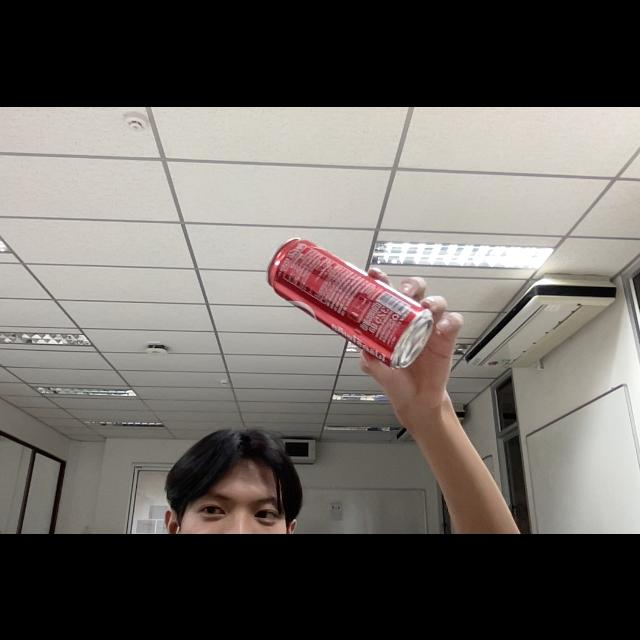plastic_bottle: (256, 228, 437, 372)
